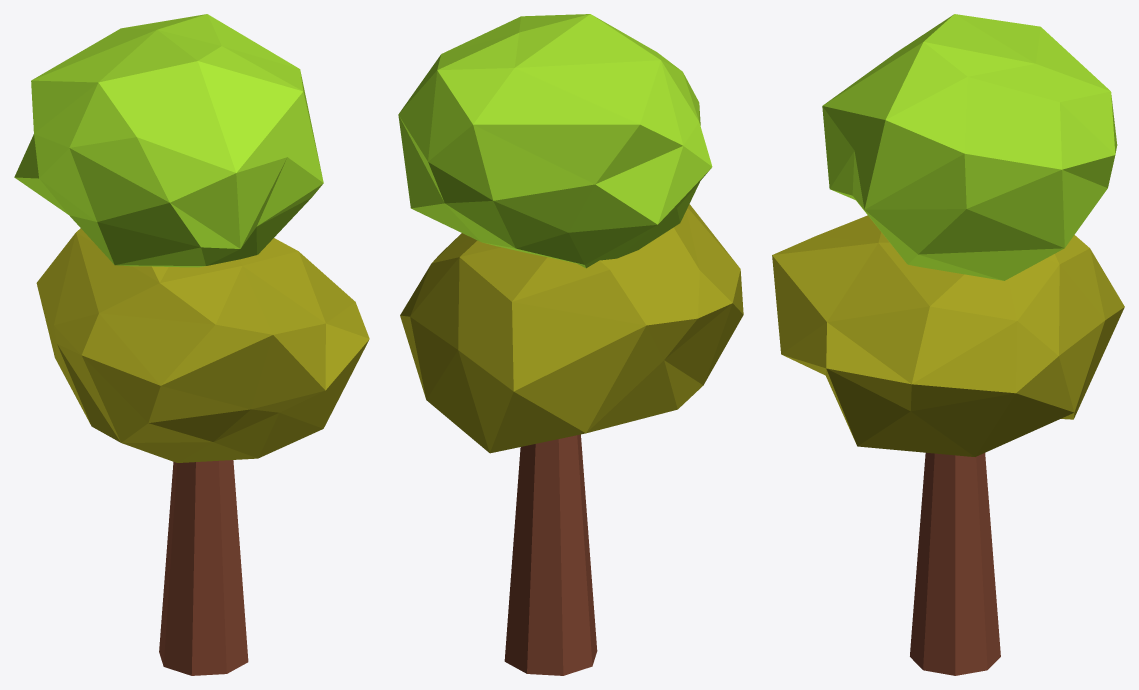
File: Tree_02.fbx
The picture shows the model from 3 angles, left to right: view 1: azimuth 30°, elevation 25°; view 2: azimuth 150°, elevation 25°; view 3: azimuth 270°, elevation 25°; orthographic projection. The views are drawn at different scales.
Parts seen in each view (by area): view 1: tree3.002; view 2: tree3.002; view 3: tree3.002.
Part boxes in pixels (<box>): tree3.002: <box>14,14,369,675</box>; tree3.002: <box>398,14,743,675</box>; tree3.002: <box>772,14,1124,675</box>.
Bounding box in the file's own units: 256 × 517 × 274.
